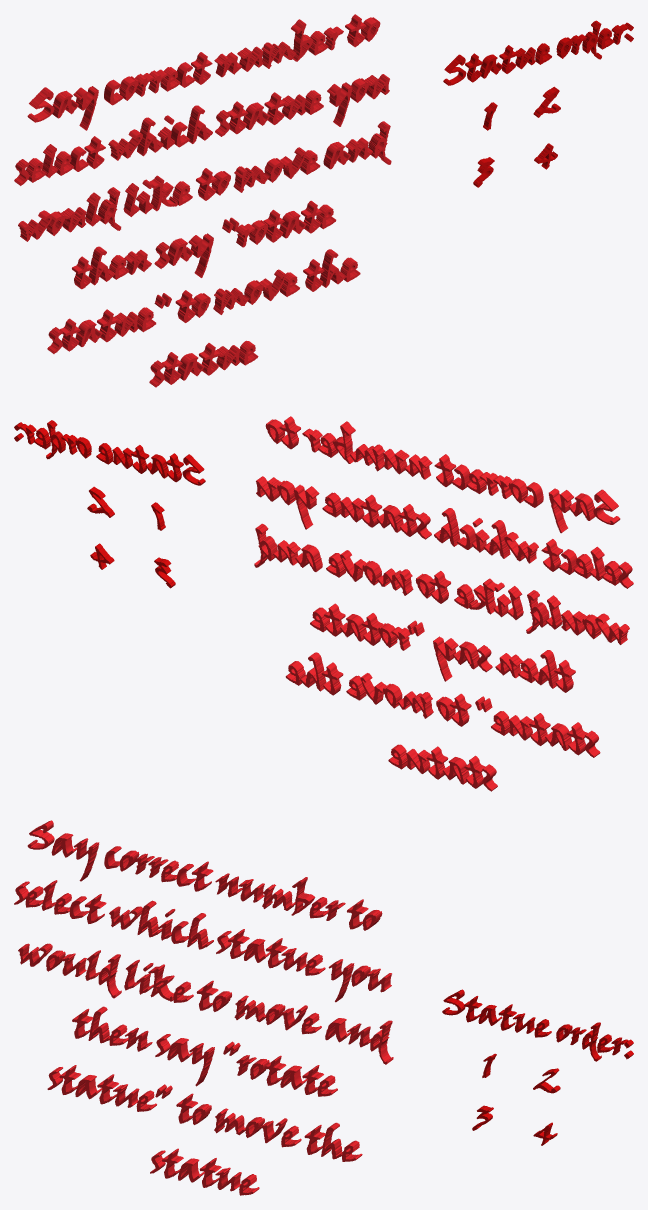
Rendered from howToControllStatuesMessage.fbx.
3 views of the same model, one above another, from view 1: azimuth 30°, elevation 25°; view 2: azimuth 150°, elevation 25°; view 3: azimuth 330°, elevation 25° (orthographic).
Visible parts, largest first — view 1: node_id179 (×6), node_id169, node_id165, node_id172; view 2: node_id179 (×6), node_id169, node_id165, node_id172; view 3: node_id179 (×6), node_id169.
Boxes of the visible parts, x1,y1,x2,y2 form: node_id179 (×6): (14,14,391,387); node_id169: (443,20,633,85); node_id165: (473,143,557,187); node_id172: (483,86,560,130); node_id179 (×6): (254,416,633,791); node_id169: (14,420,205,485); node_id165: (90,543,175,588); node_id172: (87,486,165,530); node_id179 (×6): (14,820,393,1195); node_id169: (442,989,633,1061).
Bounding box in the file's own units: 0.8481 × 0.4342 × 0.0166.
